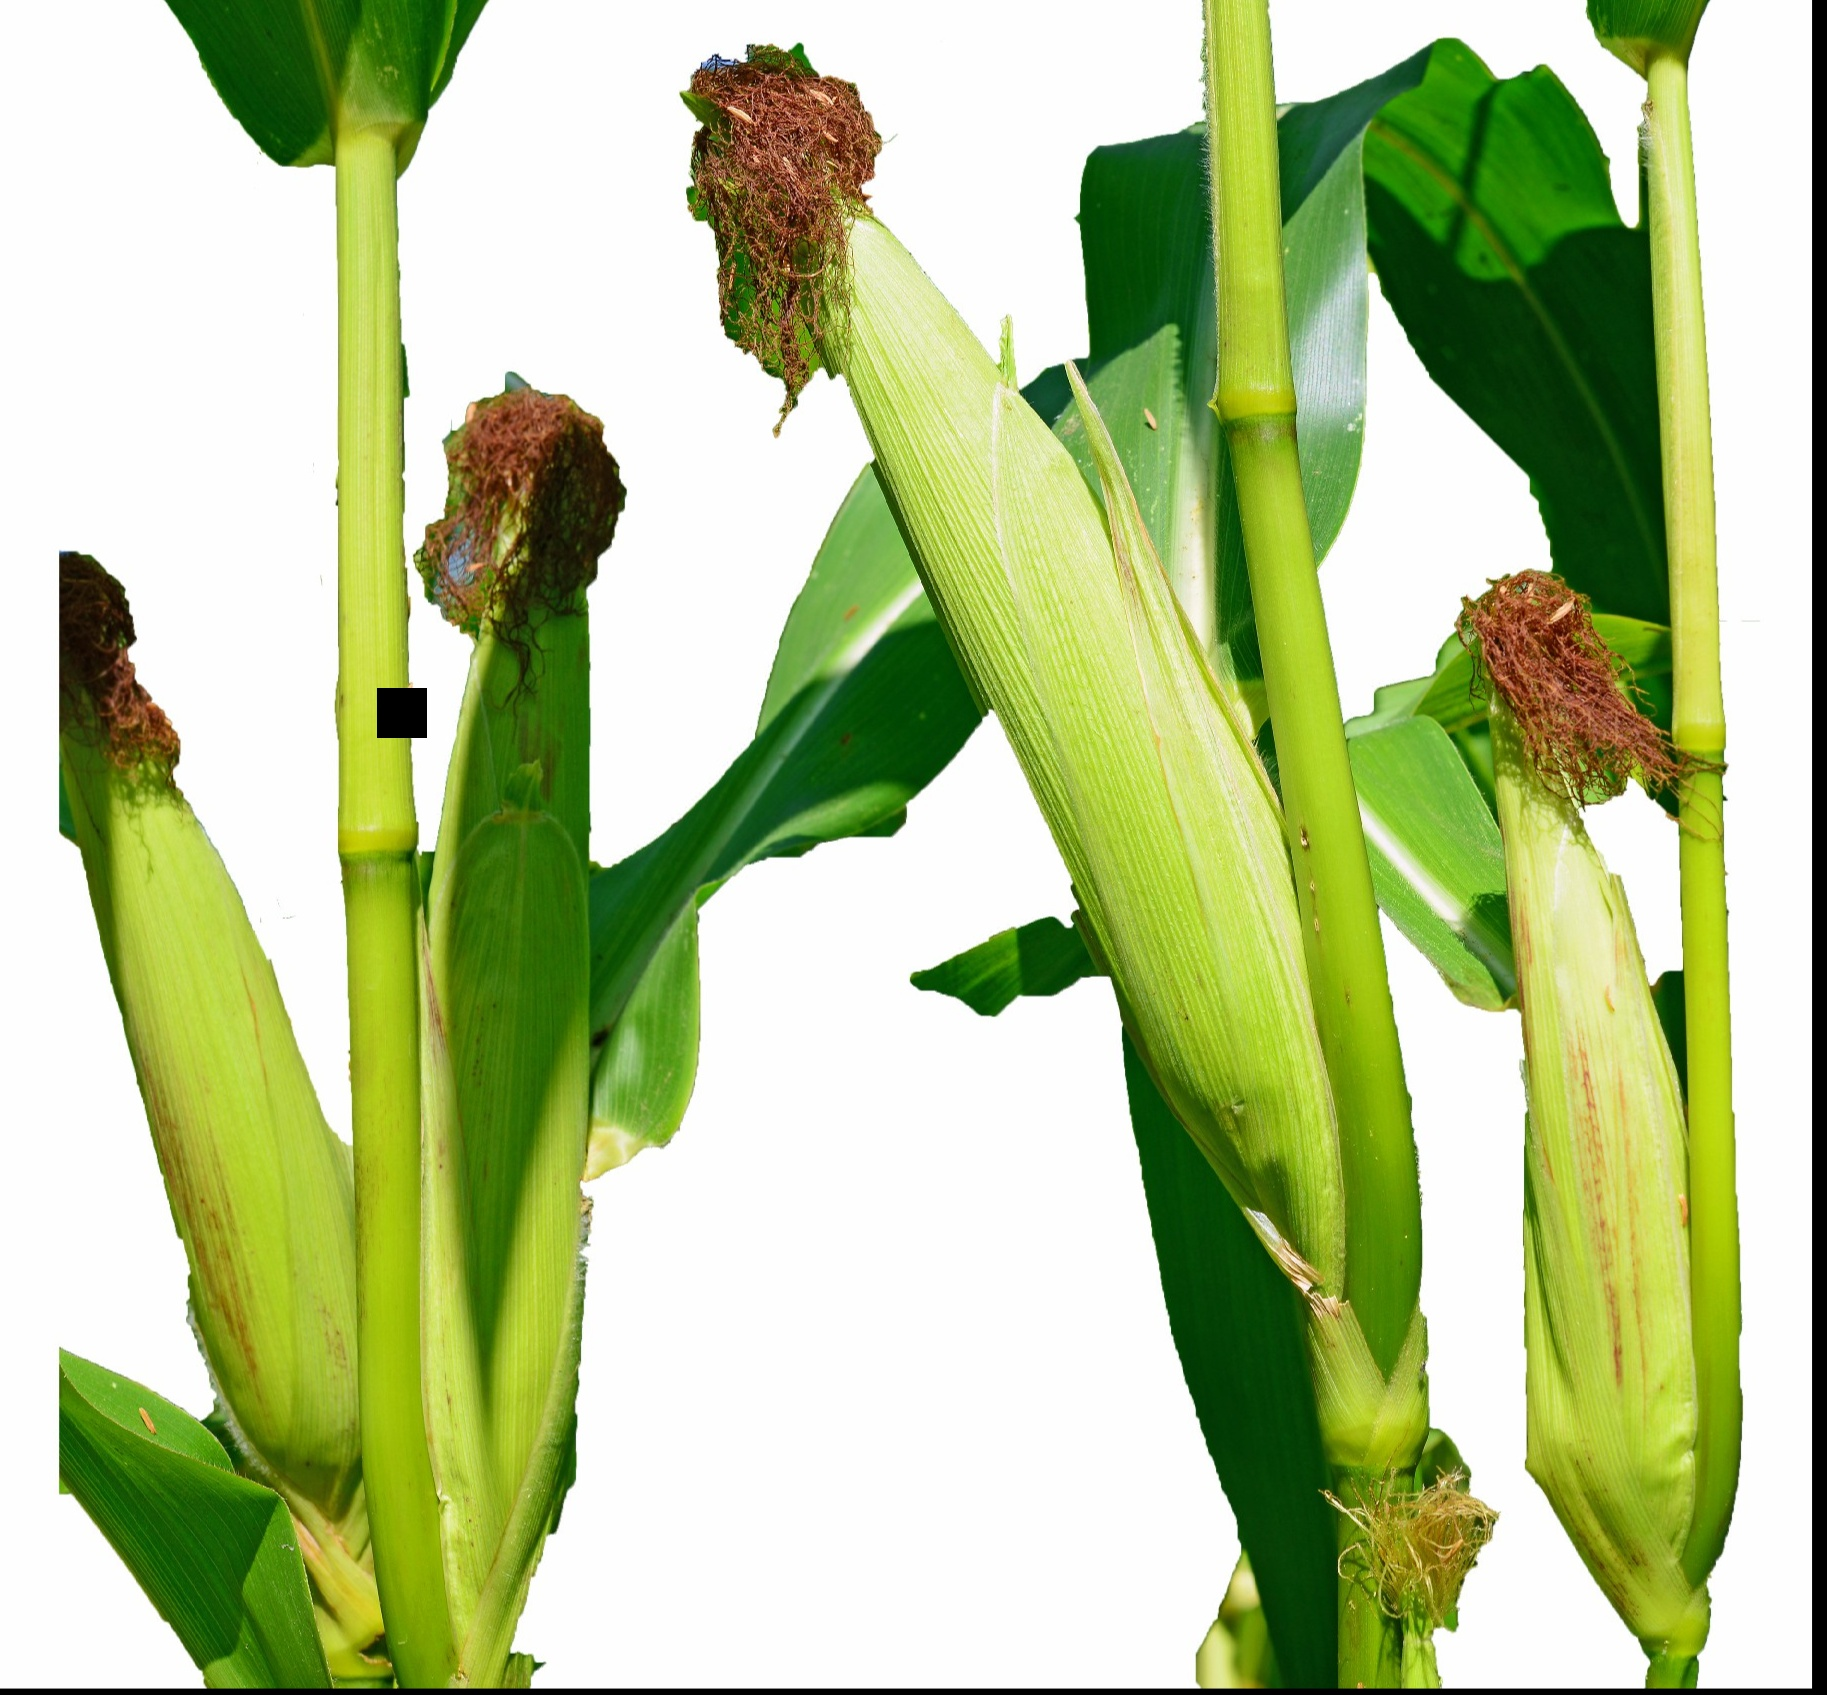corn_plant: (682, 18, 1422, 1442), (1440, 554, 1778, 1657), (64, 546, 395, 1606), (414, 384, 663, 1682)
